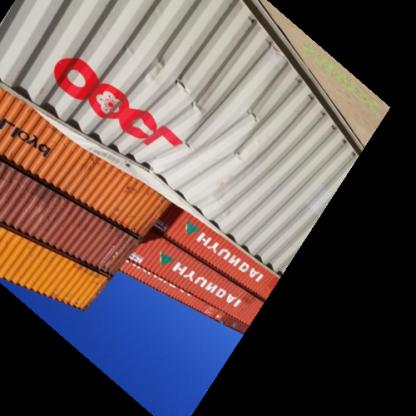Damage: (56, 36, 244, 216)
